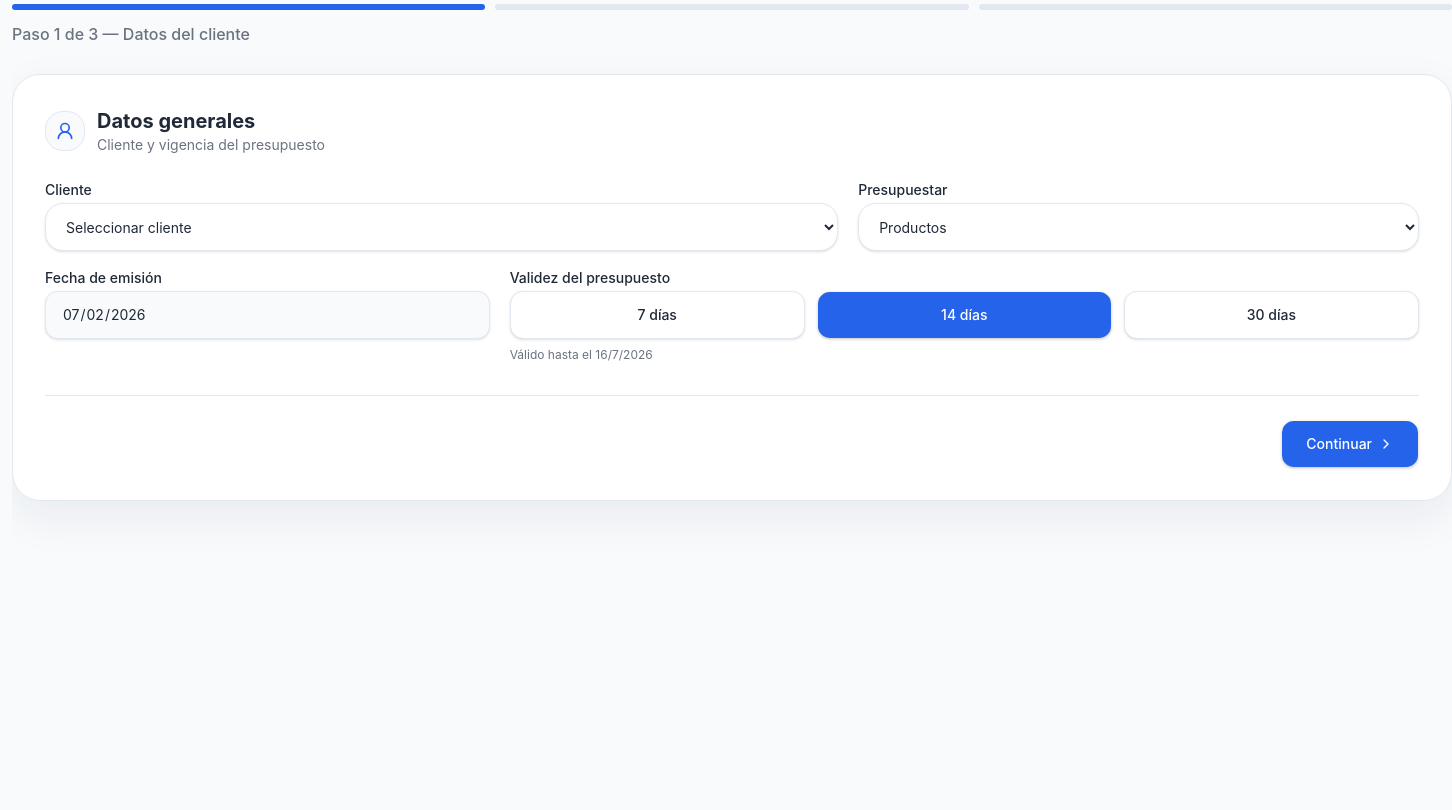
Test: QuoteForm › muestra el paso de totales sin guardar al continuar desde ítems
Click the button "Continuar" at (1350, 444), box [1281, 420, 1419, 468]
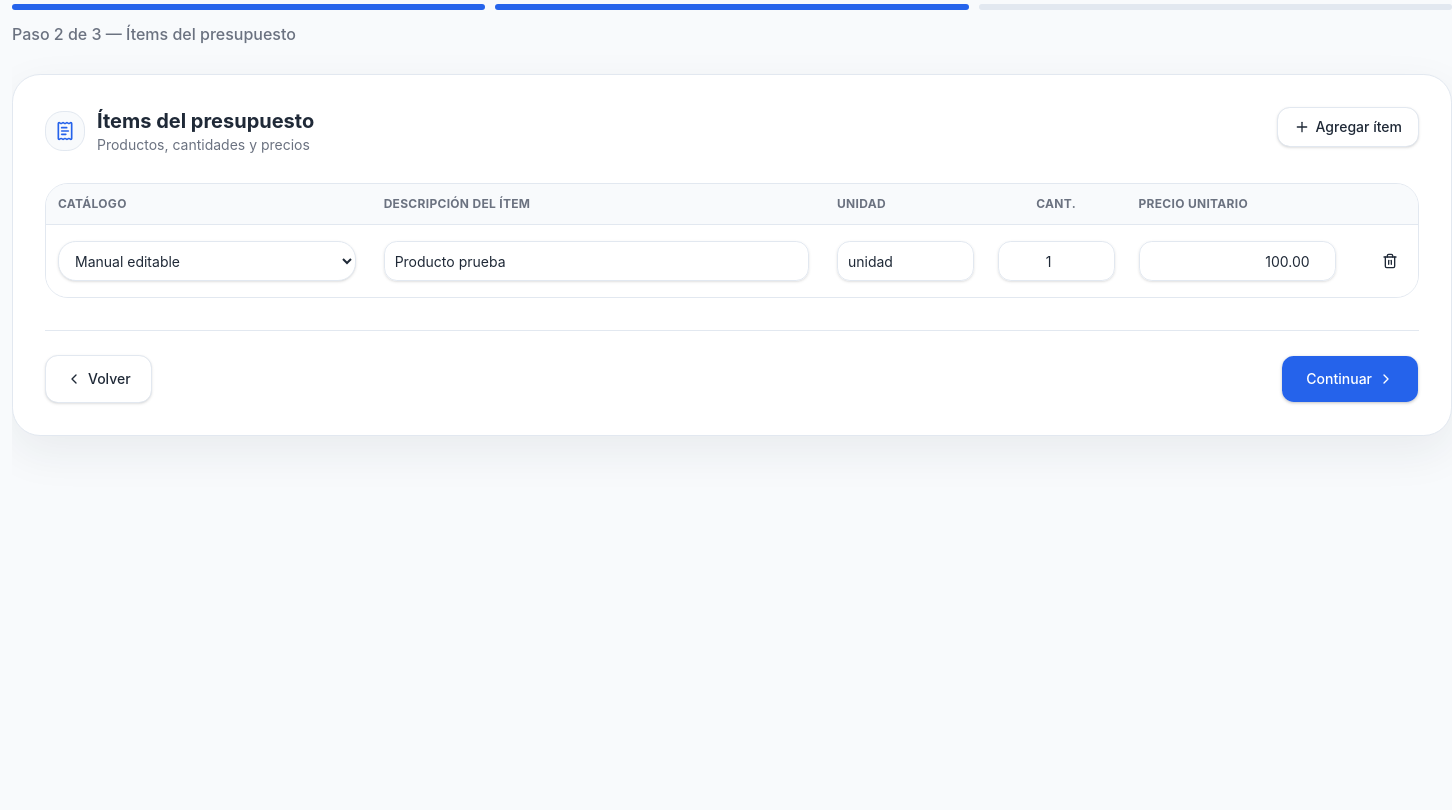
Expected: the heading "Ítems del presupuesto" is shown, [97, 107, 314, 135]
Click the button "Continuar" at (1350, 379), box [1281, 355, 1419, 403]
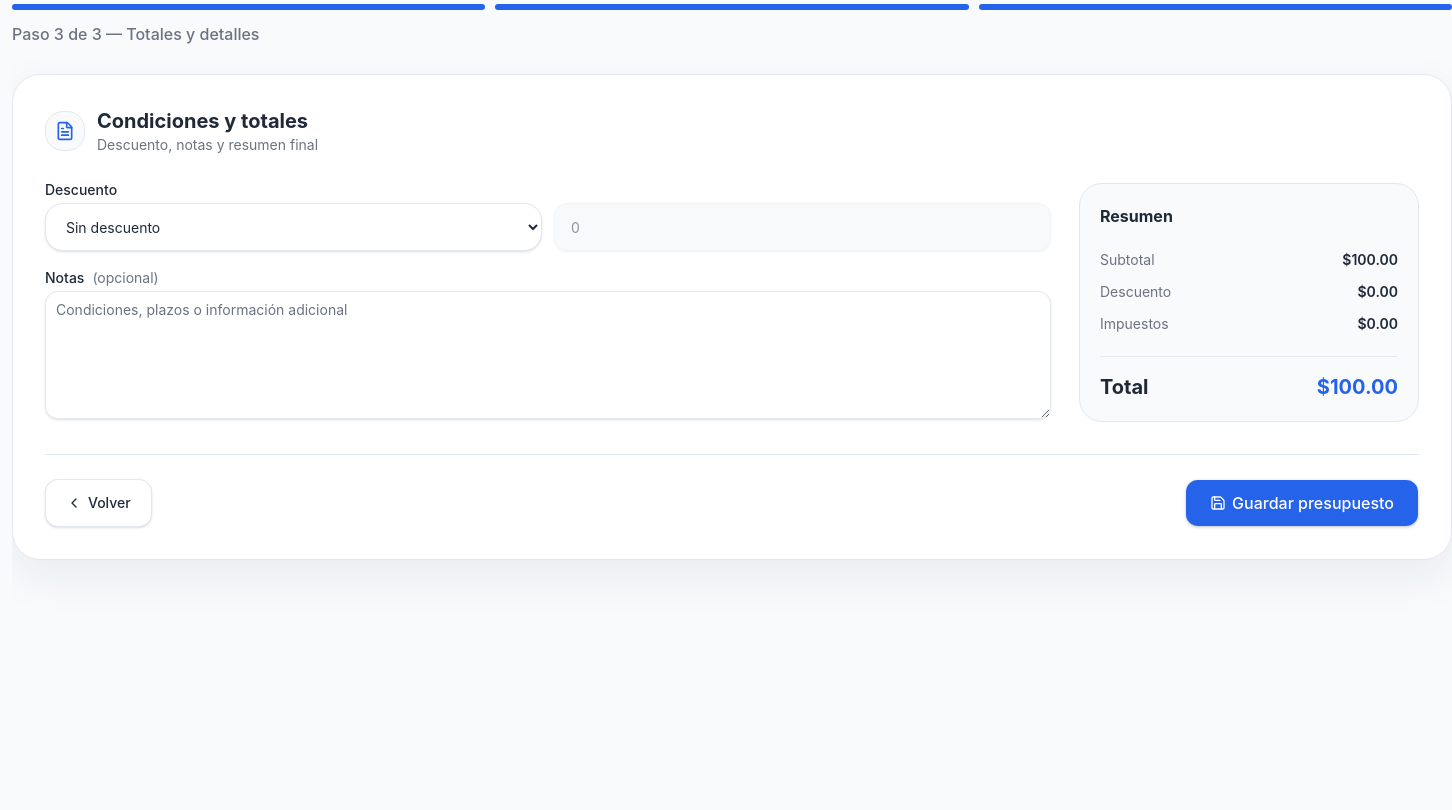
Expected: the heading "Condiciones y totales" is shown, [97, 107, 318, 135]
